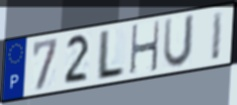2: (63, 32, 92, 87)
7: (31, 36, 60, 92)
H: (129, 19, 161, 77)
I: (210, 9, 225, 63)
L: (94, 28, 126, 83)
U: (161, 12, 197, 70)
